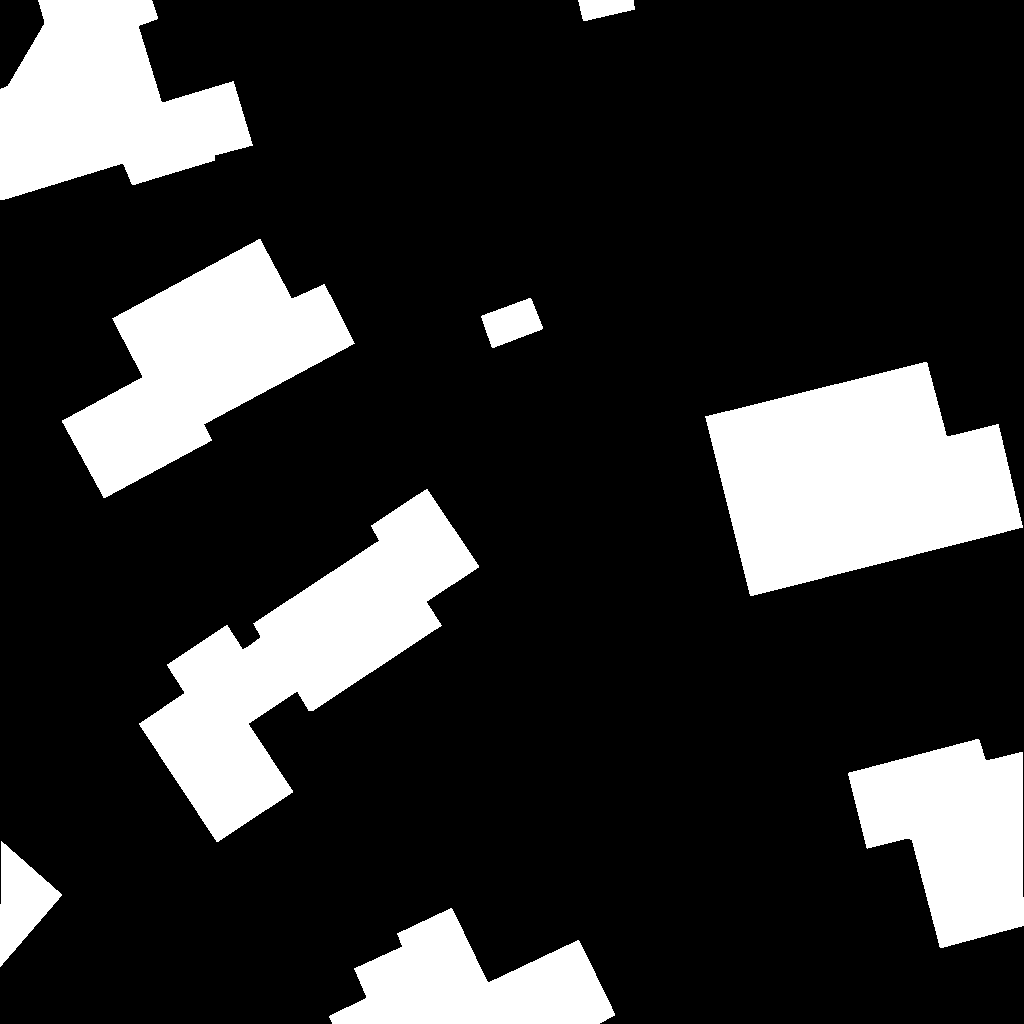building: (139, 489, 480, 843), (62, 239, 356, 499), (705, 362, 1024, 597), (0, 0, 254, 201), (848, 739, 1024, 949), (329, 908, 616, 1024), (0, 841, 63, 968), (481, 298, 544, 349), (578, 0, 636, 22)
